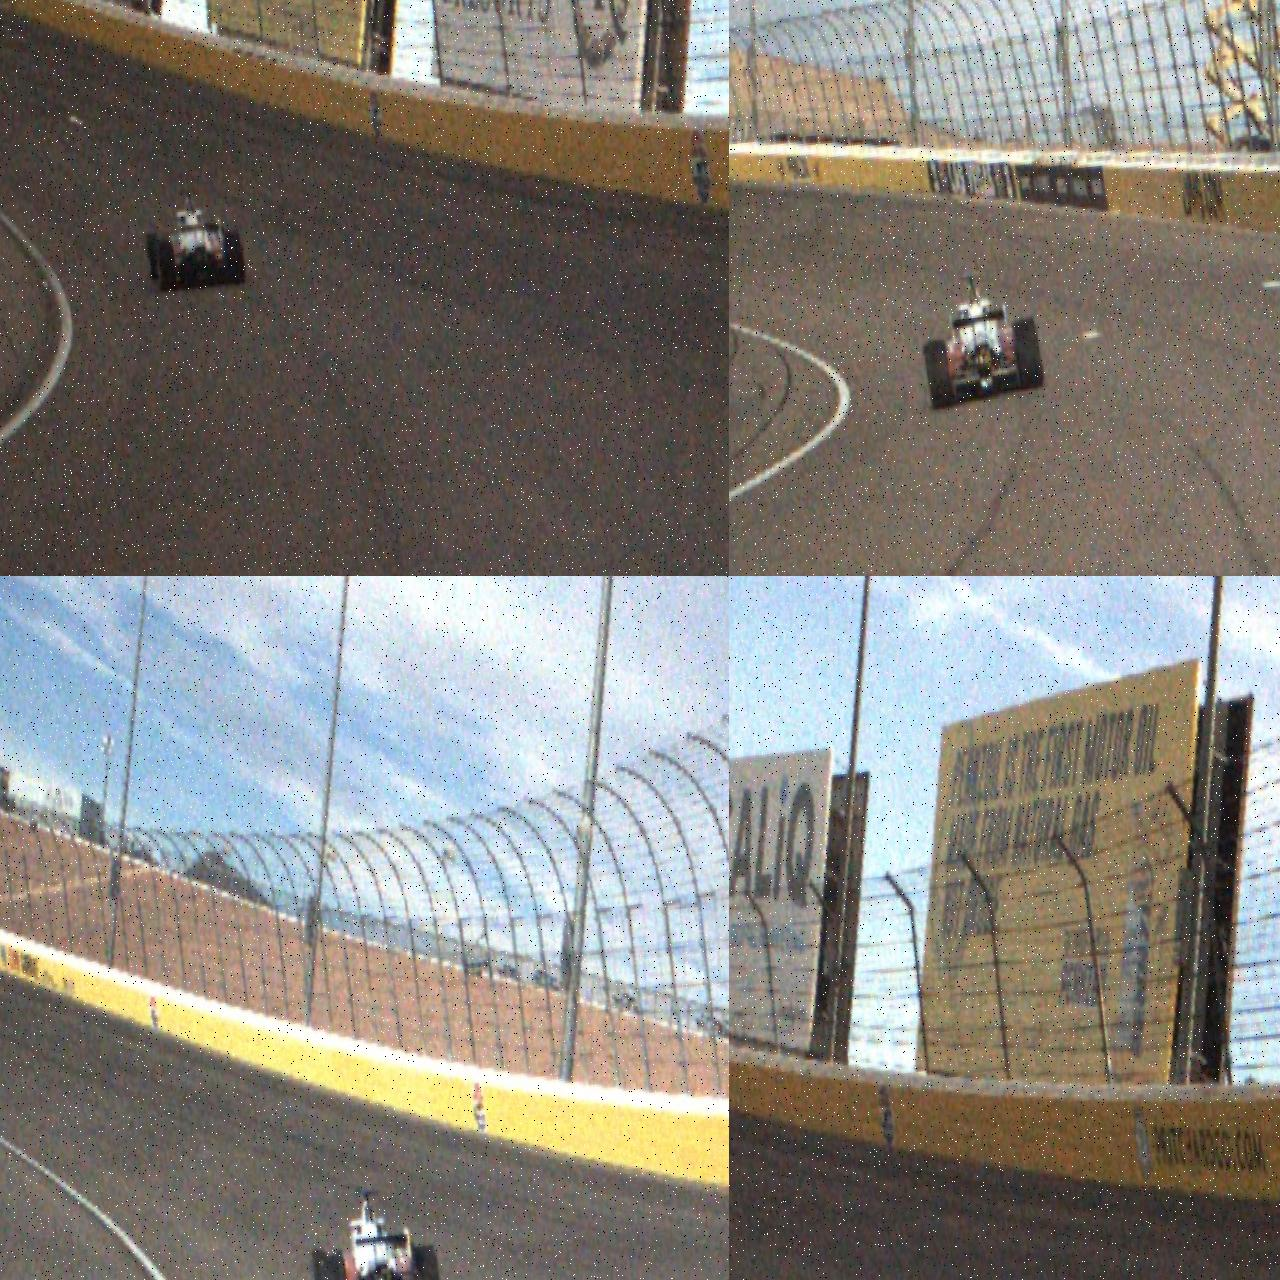AV: (918, 266, 1046, 411), (302, 1180, 443, 1280), (139, 184, 248, 294)
Wheel: (1012, 316, 1043, 392), (925, 339, 953, 410), (224, 229, 247, 286), (155, 239, 178, 293), (413, 1245, 443, 1280), (144, 232, 163, 281), (321, 1253, 350, 1280), (309, 1248, 333, 1280)
